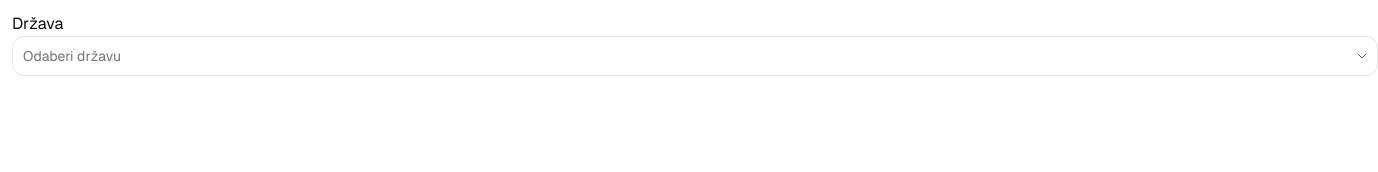
Test case: CountryCombobox › picking a country calls onValueChange with it and fills the input with its name
Type "aust" into the dropdown labelled "Država" at (681, 56), box [13,36,1350,76]
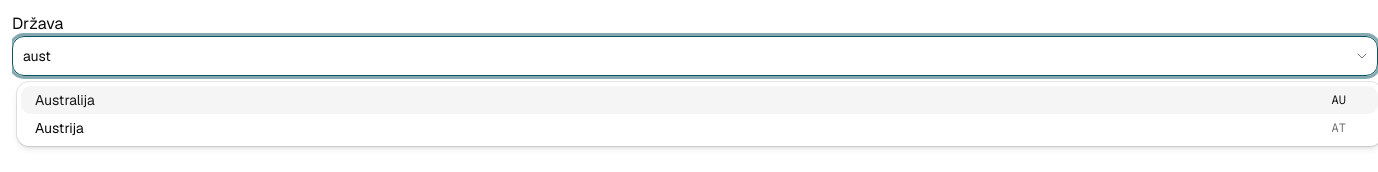
Click the option "Austrija AT" at (59, 128), box [21,114,1377,142]
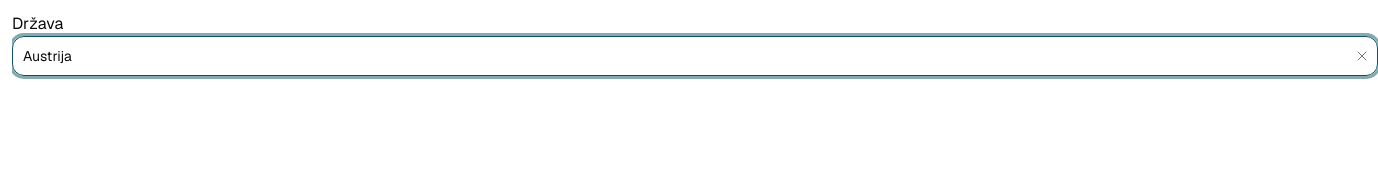
Now the dropdown labelled "Država" holds "Austrija", box [13,36,1350,76]
